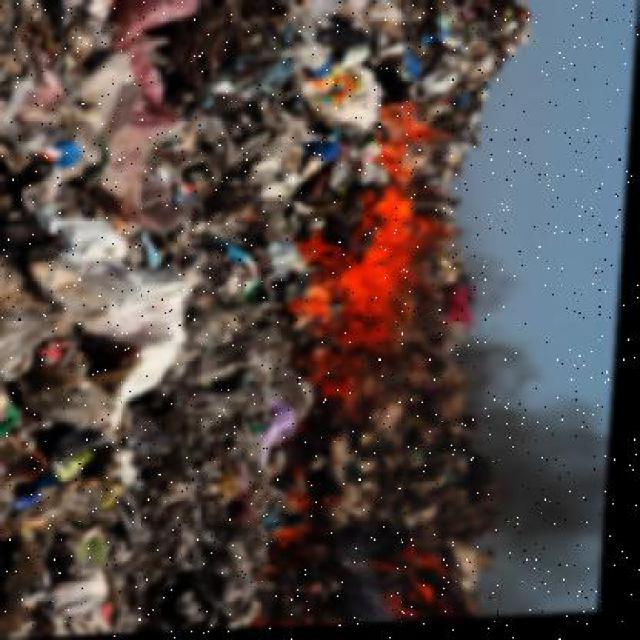fire: (289, 179, 486, 453)
